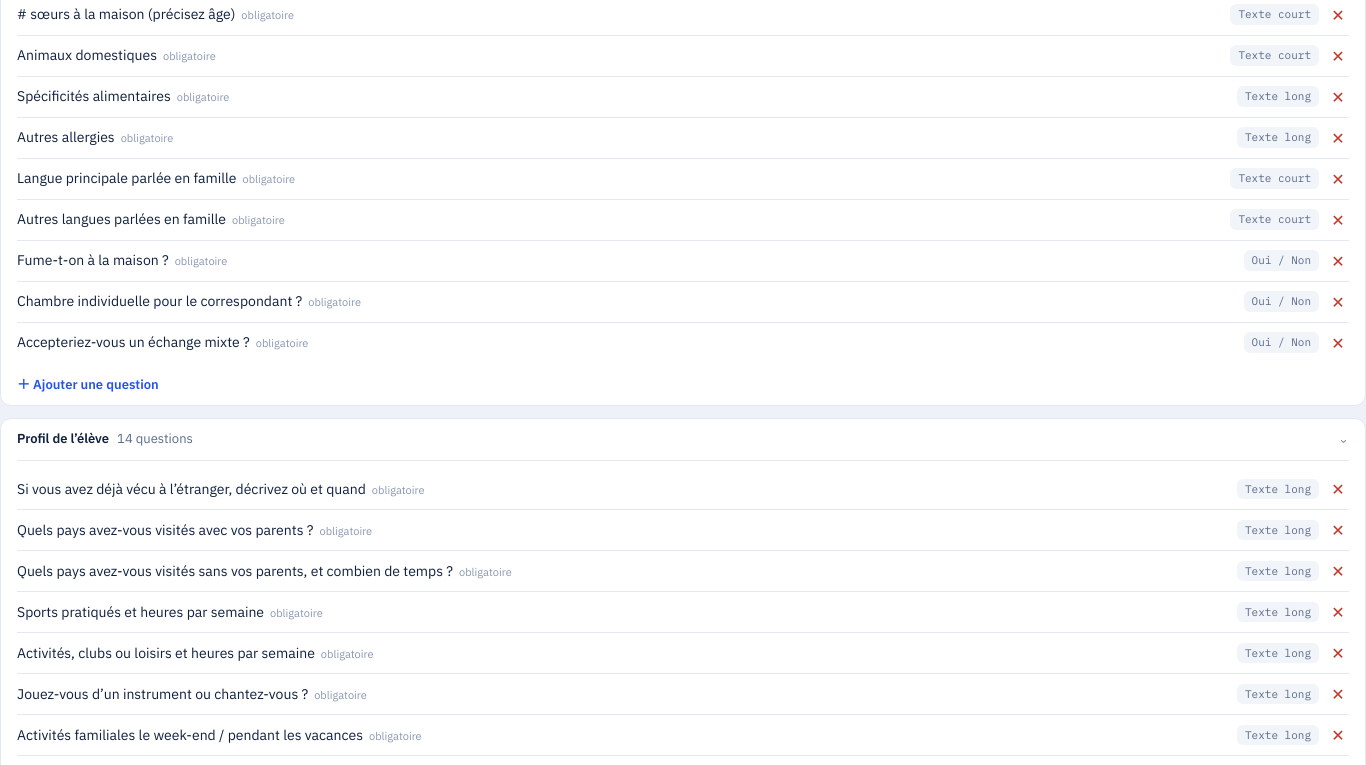
QuestionnaireEditor › opens the add dialog on the section whose ＋ was pressed, not the first one
(page scrolled)
Note: Section order is SECTION_IDS: student, parents, hosting, profile.
Click the button "＋ Ajouter une question" at {"x": 88, "y": 384}, box [17, 374, 159, 394]
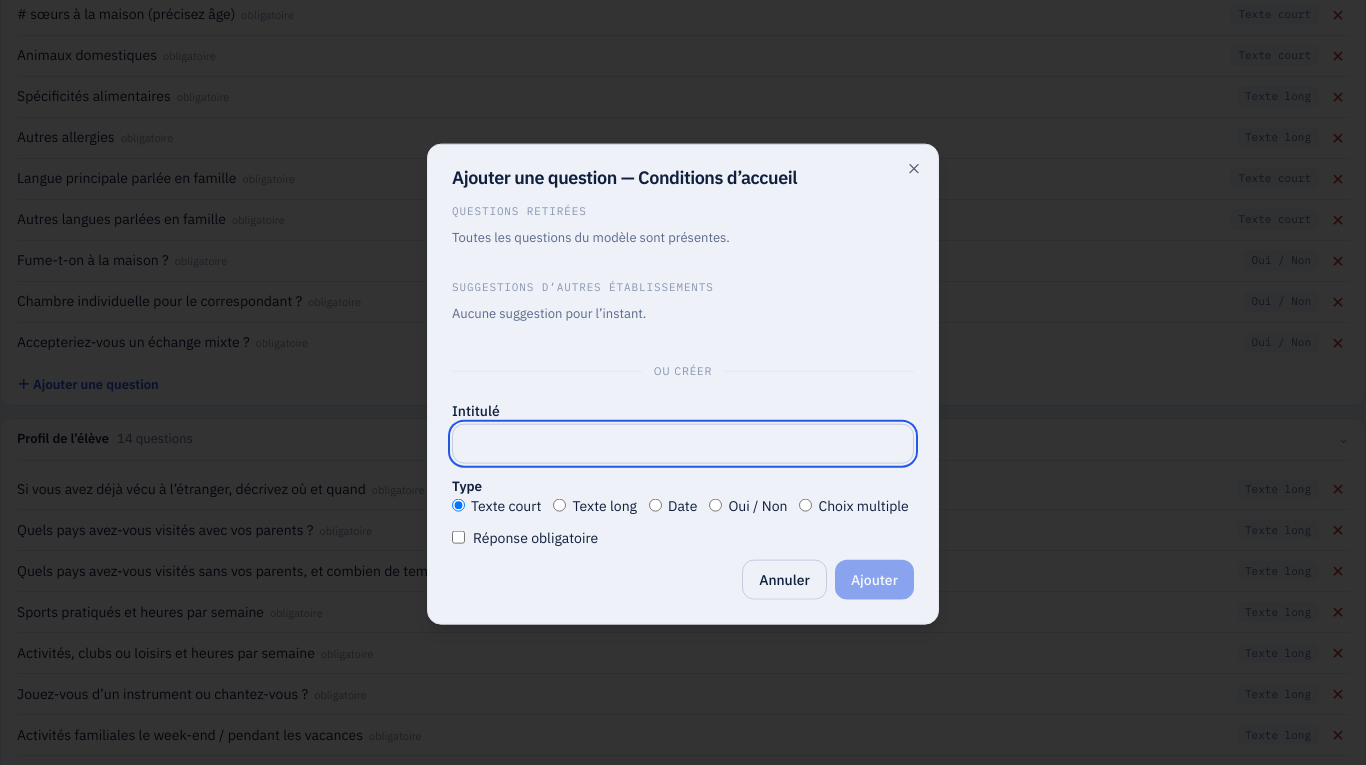
Result: the heading "Ajouter une question — Conditions d’accueil" is shown at [452, 166, 797, 189]
